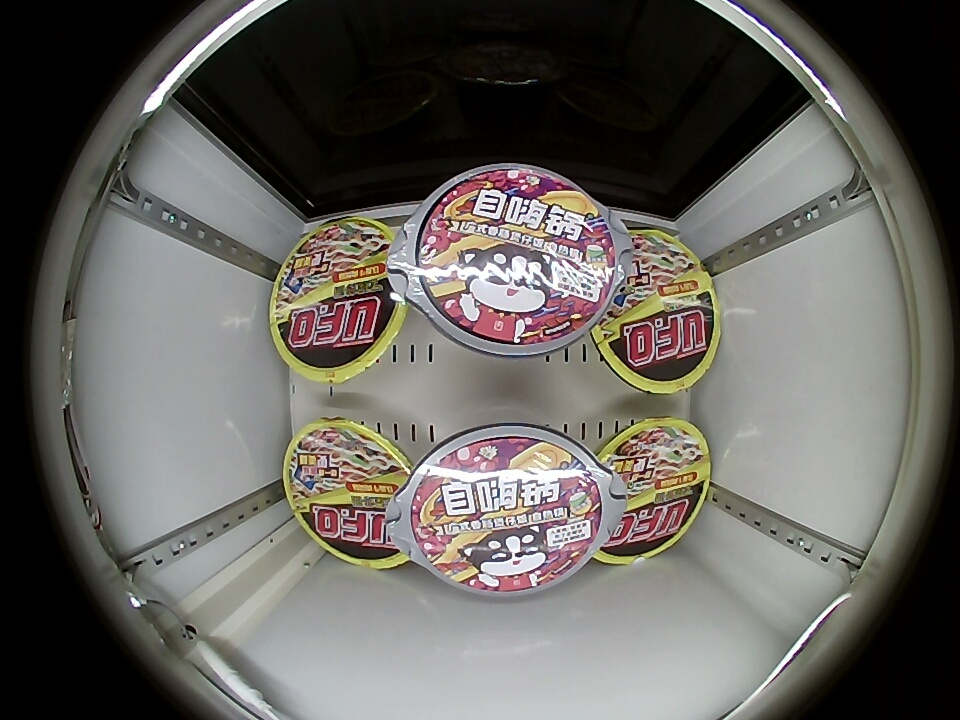ufo: (269, 218, 407, 383), (590, 229, 721, 394), (283, 417, 411, 569), (591, 417, 711, 565)
zihaiguo: (415, 169, 614, 345), (410, 436, 601, 593)
